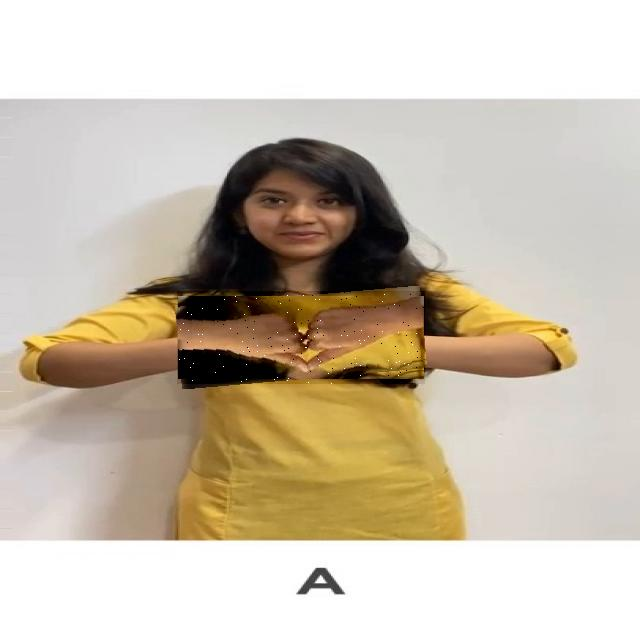A: (177, 291, 425, 384)
